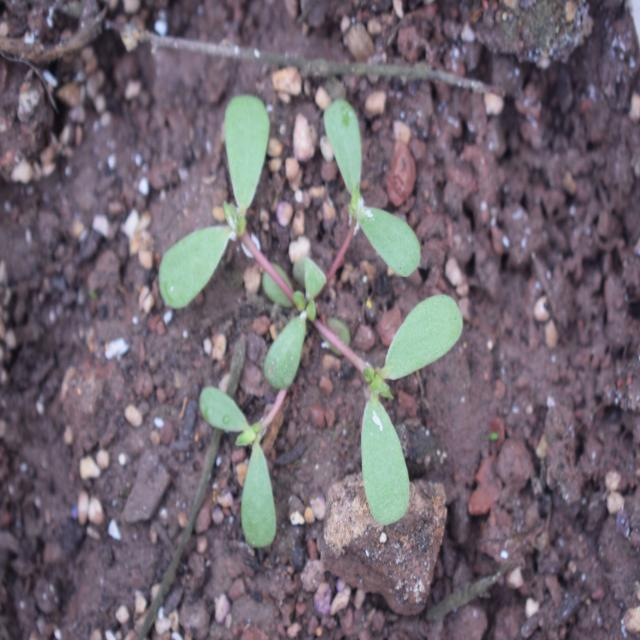purslane: (162, 87, 465, 548)
